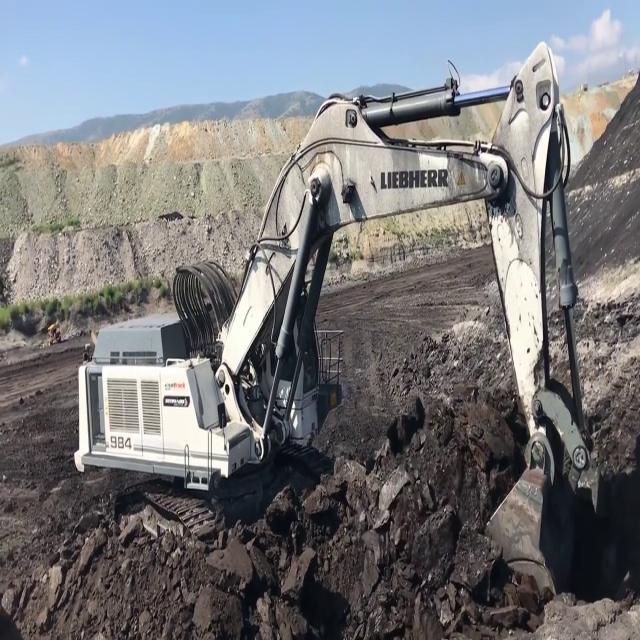excavator: (60, 40, 618, 614)
